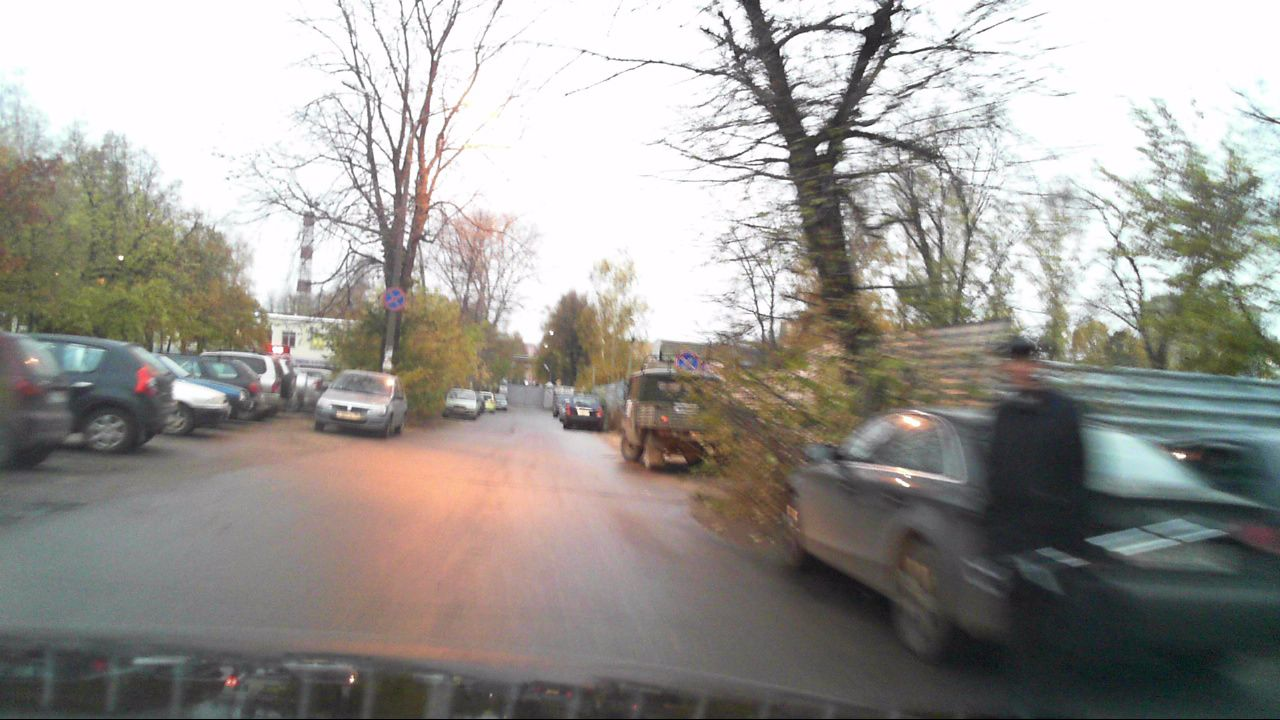No Parking: (677, 350, 699, 373)
